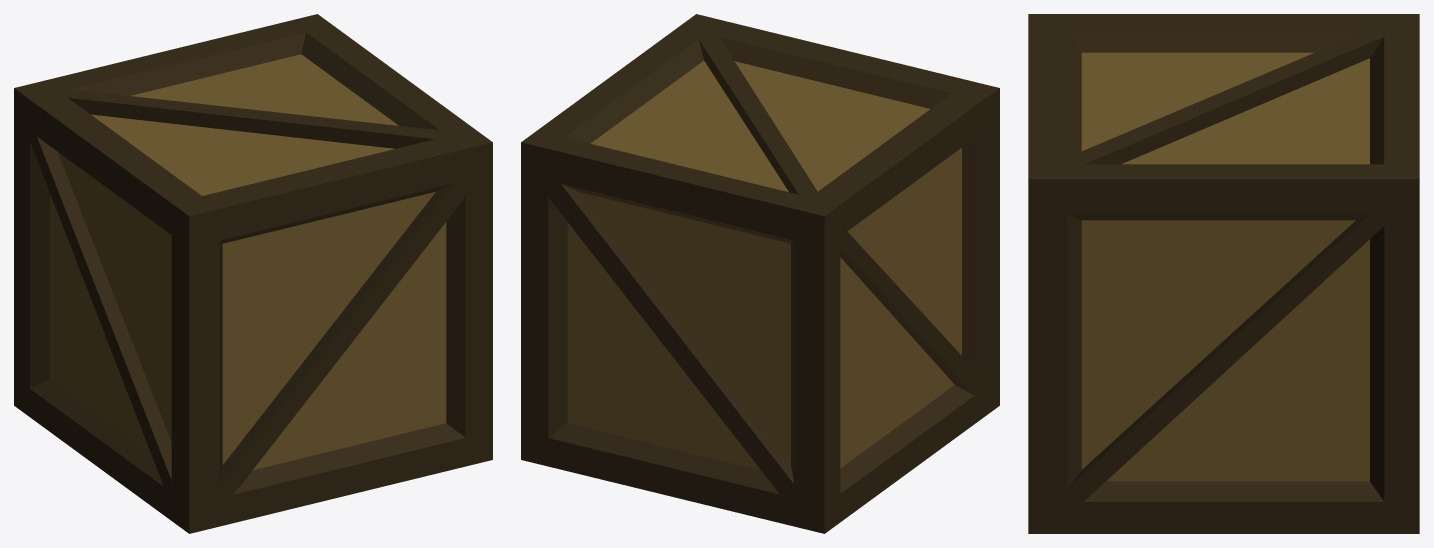
The model's file is Caja.fbx.
3 renders of one model, left to right at view 1: azimuth 30°, elevation 25°; view 2: azimuth 150°, elevation 25°; view 3: azimuth 270°, elevation 25°, orthographic. The views are drawn at different scales.
Parts seen in each view (by area): view 1: Cube.001; view 2: Cube.001; view 3: Cube.001.
Part boxes in pixels (x1,y1,x2,y2): Cube.001: [14, 14, 492, 533]; Cube.001: [521, 14, 999, 533]; Cube.001: [1028, 14, 1419, 533].
Bounding box in the file's own units: 220 × 220 × 220.
